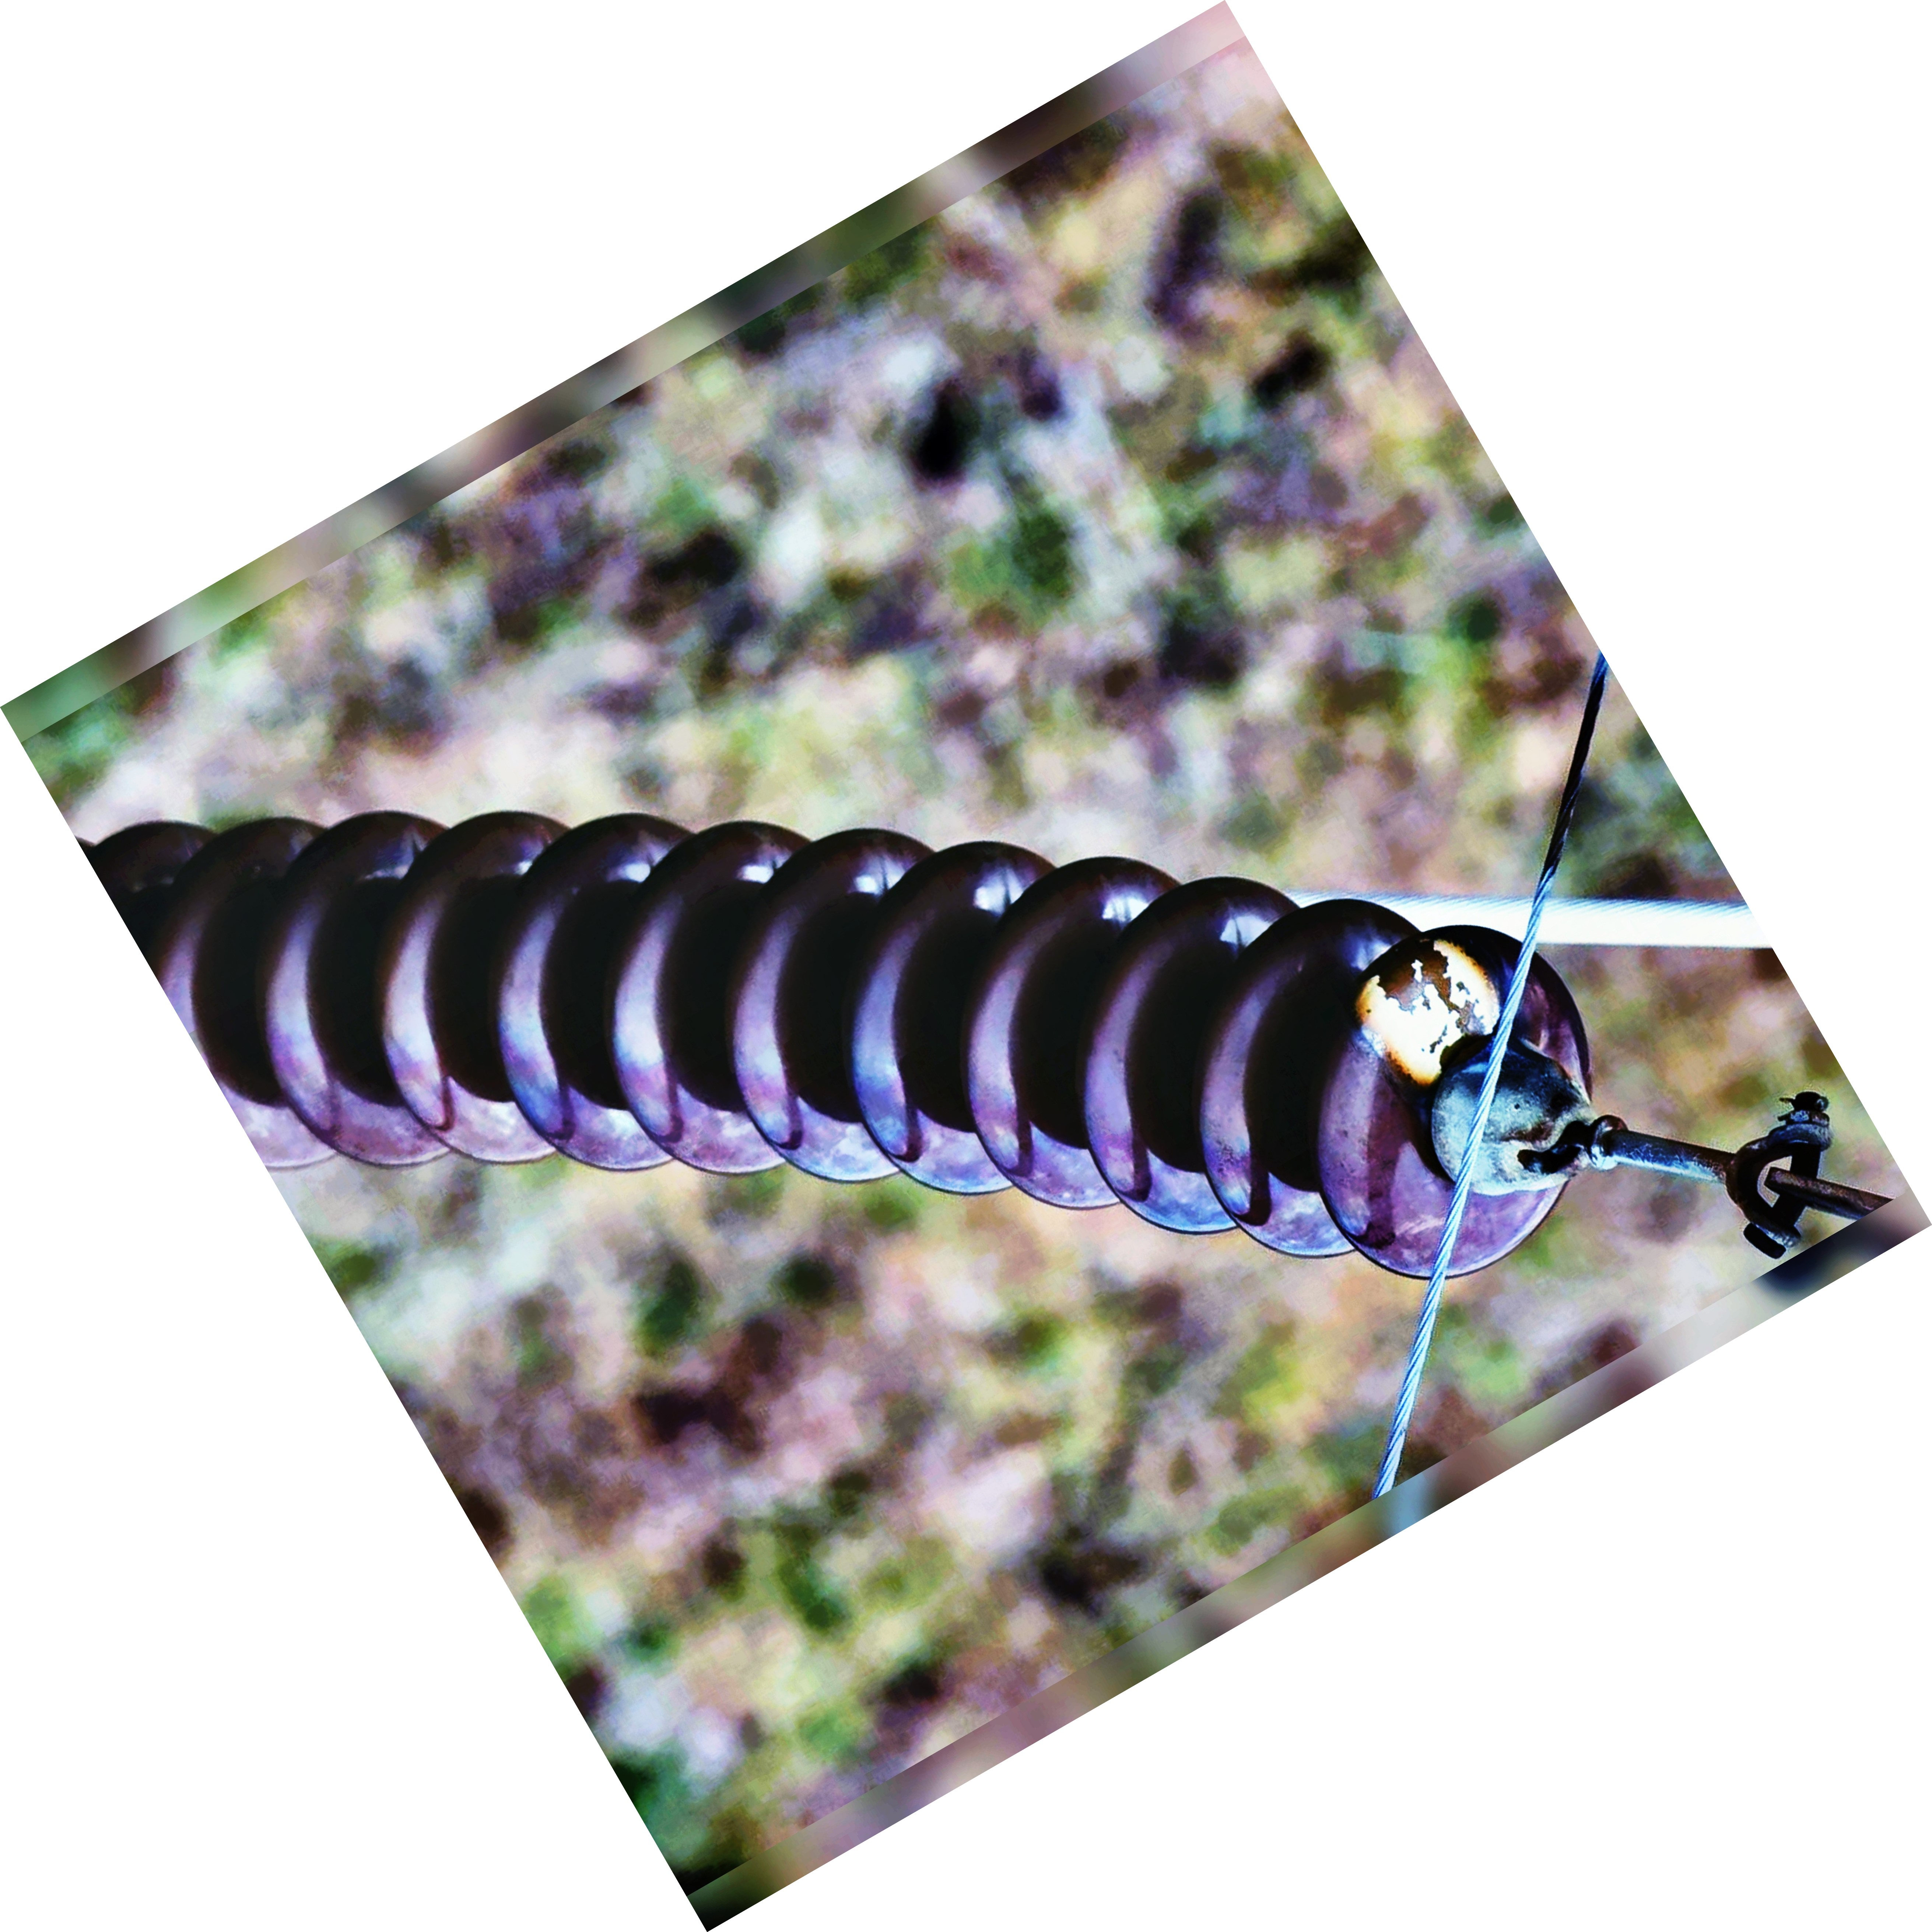Insulator flashover: (1309, 908, 1612, 1304)
